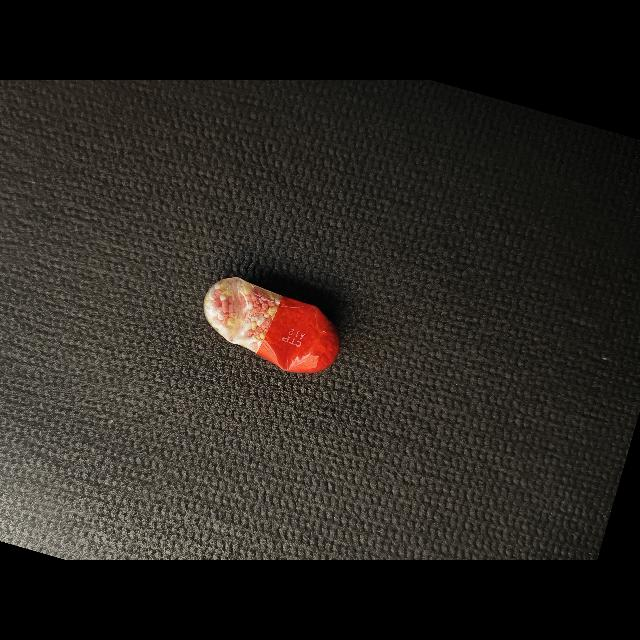Defective Capsule: (203, 277, 340, 374)
